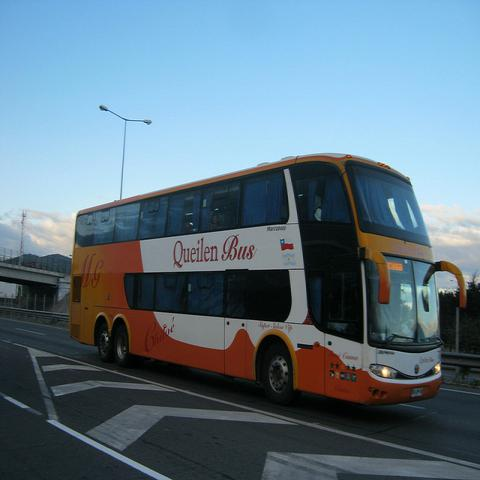bus: (72, 155, 446, 406)
